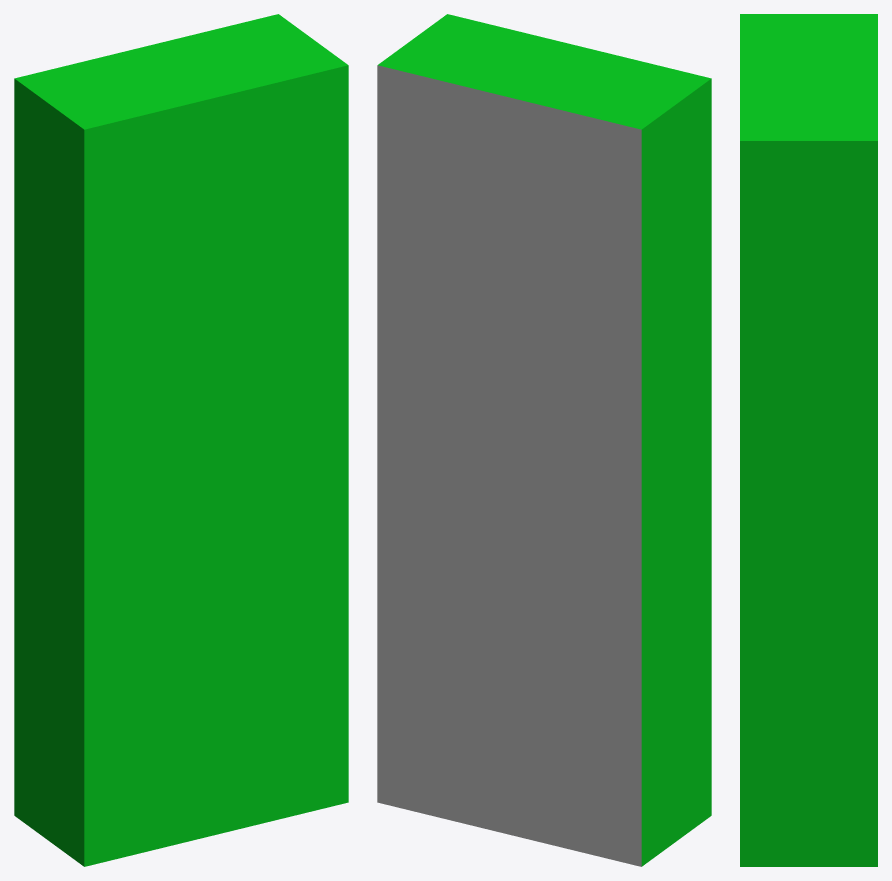
The model's file is CustomGround.fbx.
3 views of the same model, side by side, from view 1: azimuth 30°, elevation 25°; view 2: azimuth 150°, elevation 25°; view 3: azimuth 270°, elevation 25° (orthographic).
Parts seen in each view (by area): view 1: Plane; view 2: Plane; view 3: Plane.
Boxes of the visible parts, x1,y1,x2,y2 form: Plane: (14, 14, 348, 866); Plane: (377, 14, 711, 866); Plane: (740, 14, 877, 866).
Bounding box in the file's own units: 21034 × 56094 × 9654.
